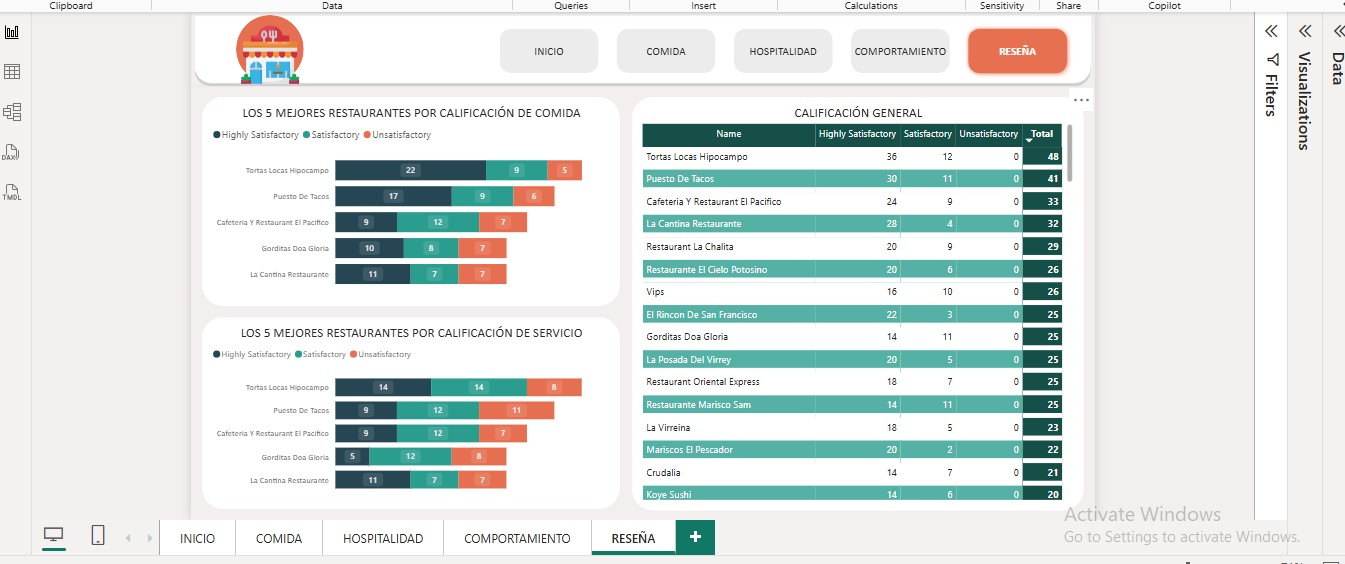

The page's visual inventory and layout, read from the dashboard file:
{"tool":"powerbi","page":{"name":"RESEÑA","canvas":[1280,720],"ordinal":4},"visuals":[{"type":"barChart","title":"LOS 5 MEJORES RESTAURANTES POR CALIFICACIÓN DE SERVICIO","fields":{"Category":["restaurants.Name"],"Y":["CountNonNull(ratings.Consumer_ID)"],"Series":["ratings.Service_Rating_Category"]},"box":[16,432,592,272],"z":0},{"type":"barChart","title":"LOS 5 MEJORES RESTAURANTES POR CALIFICACIÓN DE COMIDA","fields":{"Category":["restaurants.Name"],"Y":["CountNonNull(ratings.Consumer_ID)"],"Series":["ratings.Food_Rating_Category"]},"box":[15.9,119.8,592.3,296.2],"z":1000},{"type":"pivotTable","title":"CALIFICACIÓN GENERAL","fields":{"Rows":["restaurants.Name"],"Columns":["ratings.Overall_Rating_Category"],"Values":["Sum(ratings.Overall_Rating)"]},"box":[625.3,119.8,639.6,586.3],"z":2000},{"type":"shape","box":[0,0,1280.5,105.9],"z":3000},{"type":"pageNavigator","box":[429.4,15.6,824.9,79.4],"z":4000},{"type":"shape","box":[63.7,4.4,96.2,96.7],"z":5000},{"type":"image","box":[56,9.3,111.5,101.1],"z":6000}]}

Visuals, with their boxes on the page's 1280x720 design canvas (x1, y1, x2, y2). These are canvas units, not pixel positions in the 1345x564 screenshot, which may show the page scaled, cropped or inside an application window:
"LOS 5 MEJORES RESTAURANTES POR CALIFICACIÓN DE SERVICIO" barChart: locate(16, 432, 608, 704)
"LOS 5 MEJORES RESTAURANTES POR CALIFICACIÓN DE COMIDA" barChart: locate(16, 120, 608, 416)
"CALIFICACIÓN GENERAL" pivotTable: locate(625, 120, 1265, 706)
shape: locate(0, 0, 1280, 106)
pageNavigator: locate(429, 16, 1254, 95)
shape: locate(64, 4, 160, 101)
image: locate(56, 9, 168, 110)
